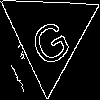G: (24, 10, 74, 70)
